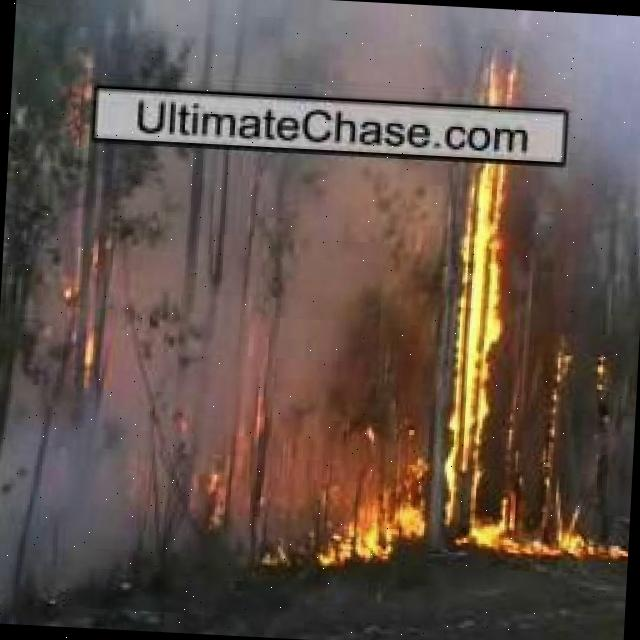fire: (448, 49, 516, 548), (334, 500, 416, 568), (550, 509, 621, 562)
